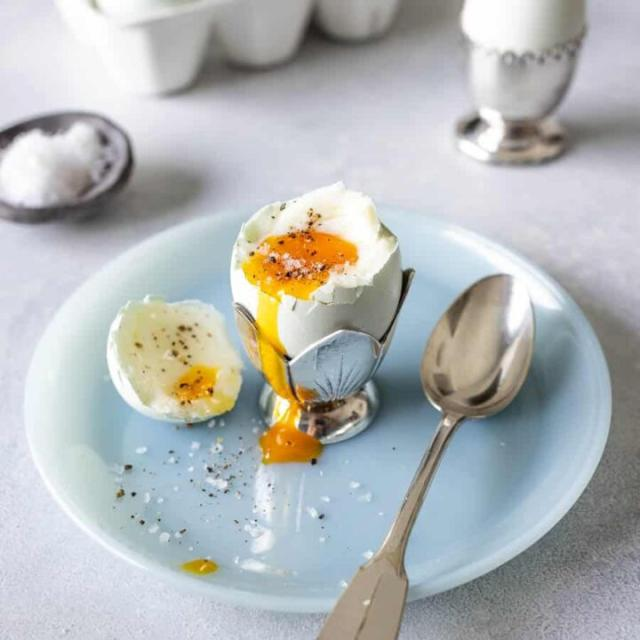eggs: (125, 203, 402, 426)
